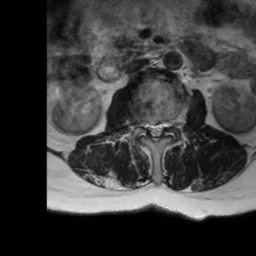CCS_stenosis: (151, 114, 158, 147)
LFS_normal: (165, 113, 173, 134)
LLS_stenosis: (158, 115, 165, 140)
RFS_normal: (136, 113, 144, 135)
RLS_stenosis: (143, 115, 151, 139)
